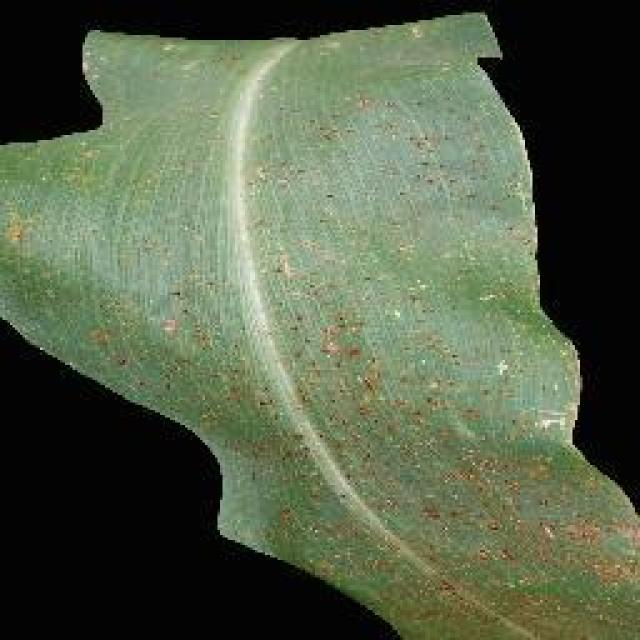Corn Common Rust: (47, 64, 640, 637)
